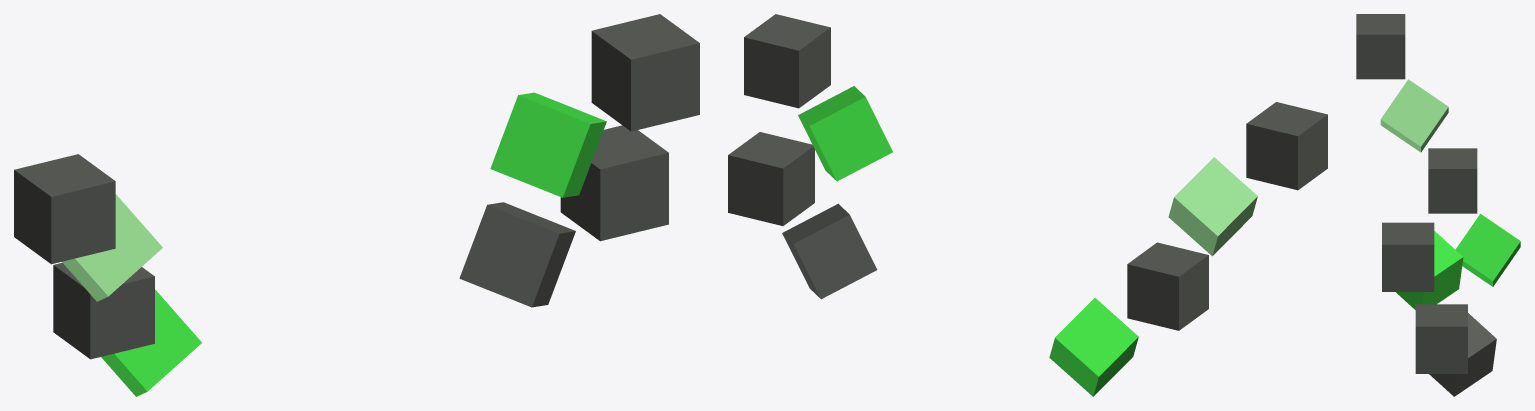
The picture shows the model from 3 angles, left to right: view 1: azimuth 30°, elevation 25°; view 2: azimuth 150°, elevation 25°; view 3: azimuth 270°, elevation 25°; orthographic projection. The views are drawn at different scales.
Visible parts, largest first — view 1: Cube, Cube004, Cube002, Cube001, Cube003, Cube006, Cube005, Cube007; view 2: Cube, Cube002, Cube006, Cube004, Cube003, Cube001, Cube005, Cube007; view 3: Cube002, Cube, Cube006, Cube004, Cube005, Cube007, Cube003, Cube001.
Boxes of the visible parts, bbox=[...] form: Cube: bbox=[591, 14, 699, 131]; Cube004: bbox=[14, 154, 115, 264]; Cube002: bbox=[560, 125, 668, 241]; Cube001: bbox=[490, 92, 606, 197]; Cube003: bbox=[459, 202, 575, 307]; Cube006: bbox=[53, 262, 154, 359]; Cube005: bbox=[62, 194, 162, 301]; Cube007: bbox=[101, 289, 201, 396]; Cube: bbox=[744, 14, 830, 108]; Cube002: bbox=[728, 132, 814, 225]; Cube006: bbox=[1127, 242, 1208, 330]; Cube004: bbox=[1246, 102, 1327, 190]; Cube003: bbox=[782, 203, 877, 299]; Cube001: bbox=[798, 86, 892, 181]; Cube005: bbox=[1168, 157, 1257, 256]; Cube007: bbox=[1049, 298, 1138, 396]; Cube002: bbox=[1415, 304, 1467, 373]; Cube: bbox=[1382, 222, 1434, 291]; Cube006: bbox=[1428, 148, 1477, 213]; Cube004: bbox=[1356, 14, 1405, 79]; Cube005: bbox=[1380, 79, 1448, 152]; Cube007: bbox=[1455, 214, 1520, 286]; Cube003: bbox=[1429, 313, 1496, 396]; Cube001: bbox=[1396, 231, 1463, 309].
Bounding box in the file's own units: 8.86 × 4.08 × 2.86.
